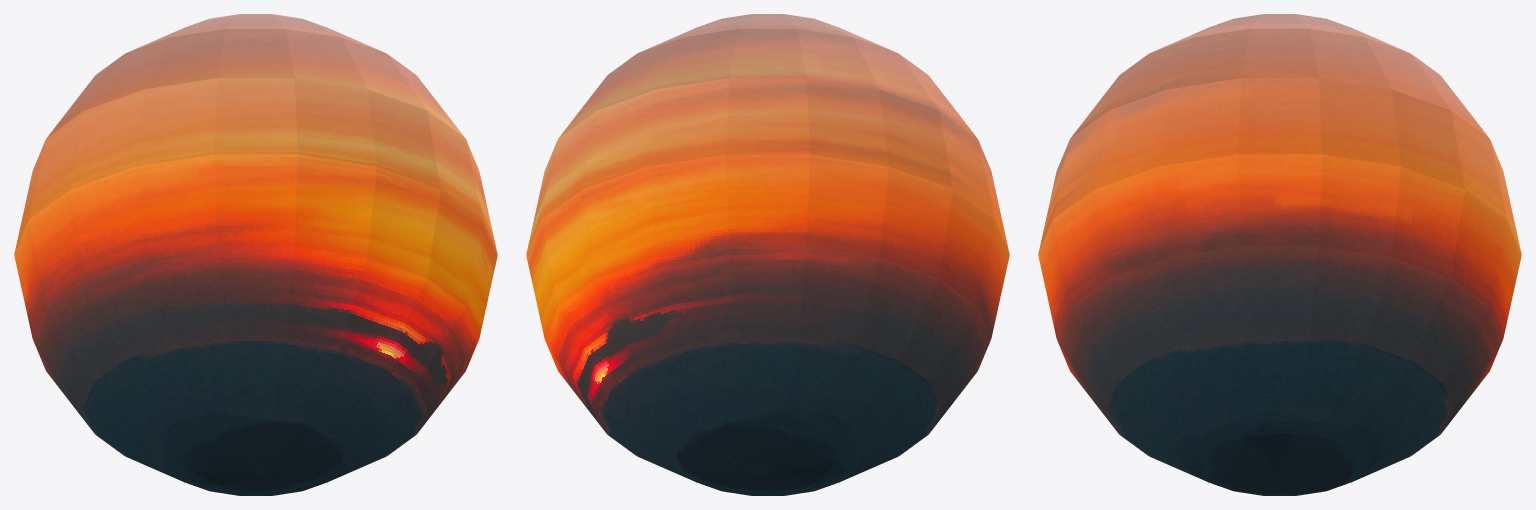
Rendered from sunset.glb.
3 renders of one model, left to right at view 1: azimuth 30°, elevation 25°; view 2: azimuth 150°, elevation 25°; view 3: azimuth 270°, elevation 25°, orthographic.
Visible parts, largest first — view 1: SunsetBackground; view 2: SunsetBackground; view 3: SunsetBackground.
Part boxes in pixels (bbox=[...]): SunsetBackground: bbox=[14, 14, 497, 495]; SunsetBackground: bbox=[526, 14, 1009, 495]; SunsetBackground: bbox=[1038, 14, 1521, 495].
Size of the model in its own units: 39.39 by 40 by 40.
1 material, 1 textured.
